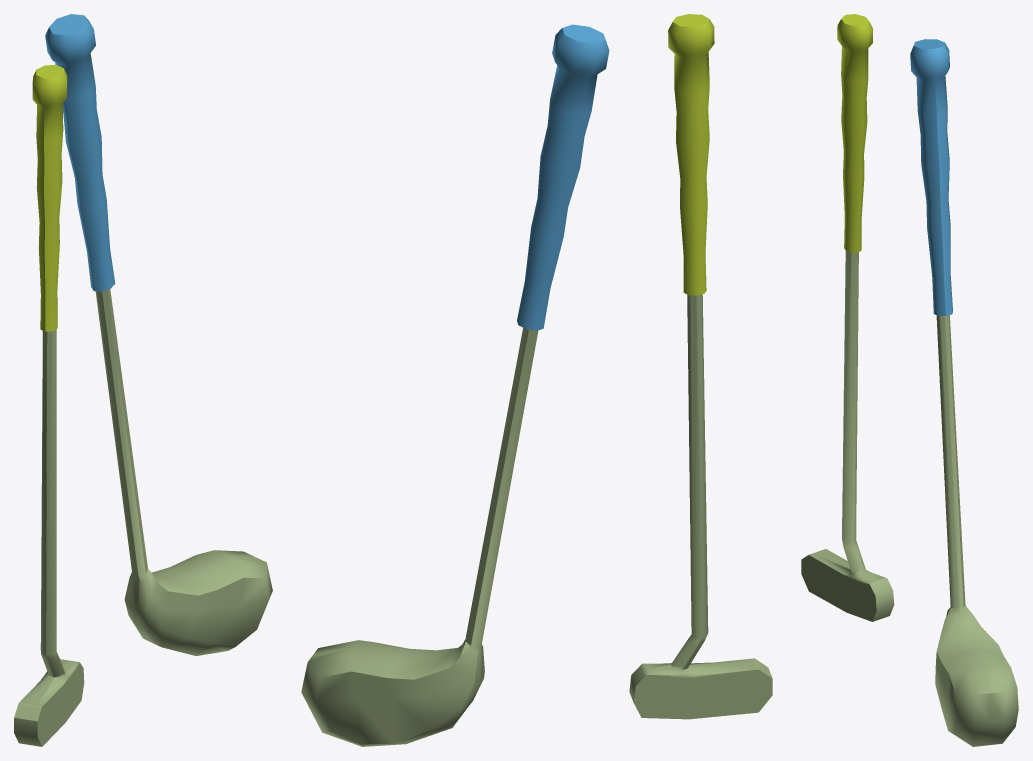
3 views of the same model, side by side, from view 1: azimuth 30°, elevation 25°; view 2: azimuth 150°, elevation 25°; view 3: azimuth 270°, elevation 25° (orthographic). The views are drawn at different scales.
Parts seen in each view (by area): view 1: split_parent_0, golf_club_01_blinn1_0.040, golf_club_02_phong2_0; view 2: split_parent_0, golf_club_01_blinn1_0.040, golf_club_02_phong2_0; view 3: split_parent_0, golf_club_01_blinn1_0.040, golf_club_02_phong2_0.
Part boxes in pixels (bbox=[...]): split_parent_0: bbox=[14, 289, 272, 746]; golf_club_01_blinn1_0.040: bbox=[45, 14, 115, 291]; golf_club_02_phong2_0: bbox=[32, 65, 67, 331]; split_parent_0: bbox=[301, 294, 772, 746]; golf_club_01_blinn1_0.040: bbox=[517, 24, 609, 330]; golf_club_02_phong2_0: bbox=[668, 14, 714, 295]; split_parent_0: bbox=[801, 250, 1018, 746]; golf_club_01_blinn1_0.040: bbox=[910, 39, 952, 315]; golf_club_02_phong2_0: bbox=[837, 14, 872, 252].
Bounding box in the file's own units: 0.5258 × 1 × 0.3174.
